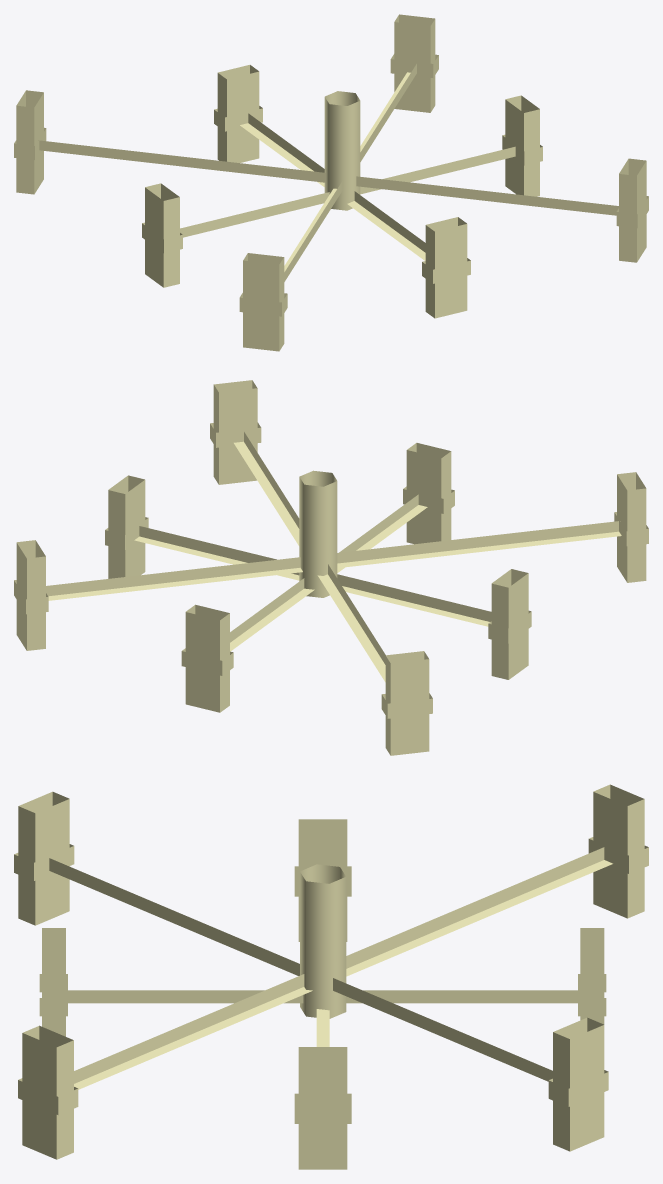
Rendered from M_xidingdeng04.FBX.
3 renders of one model, top to bottom at view 1: azimuth 30°, elevation 25°; view 2: azimuth 150°, elevation 25°; view 3: azimuth 270°, elevation 25°, orthographic. The views are drawn at different scales.
Visible parts, largest first — view 1: M_xidingdeng04_02, M_xidingdeng04_01; view 2: M_xidingdeng04_01, M_xidingdeng04_02; view 3: M_xidingdeng04_01, M_xidingdeng04_02.
Boxes of the visible parts, x1,y1,x2,y2 form: M_xidingdeng04_02: (16,14,646,351); M_xidingdeng04_01: (14,54,648,316); M_xidingdeng04_01: (14,422,648,718); M_xidingdeng04_02: (16,380,646,755); M_xidingdeng04_01: (14,837,648,1123); M_xidingdeng04_02: (18,784,644,1169).
Bounding box in the file's own units: 2.51 × 0.7743 × 2.52.
